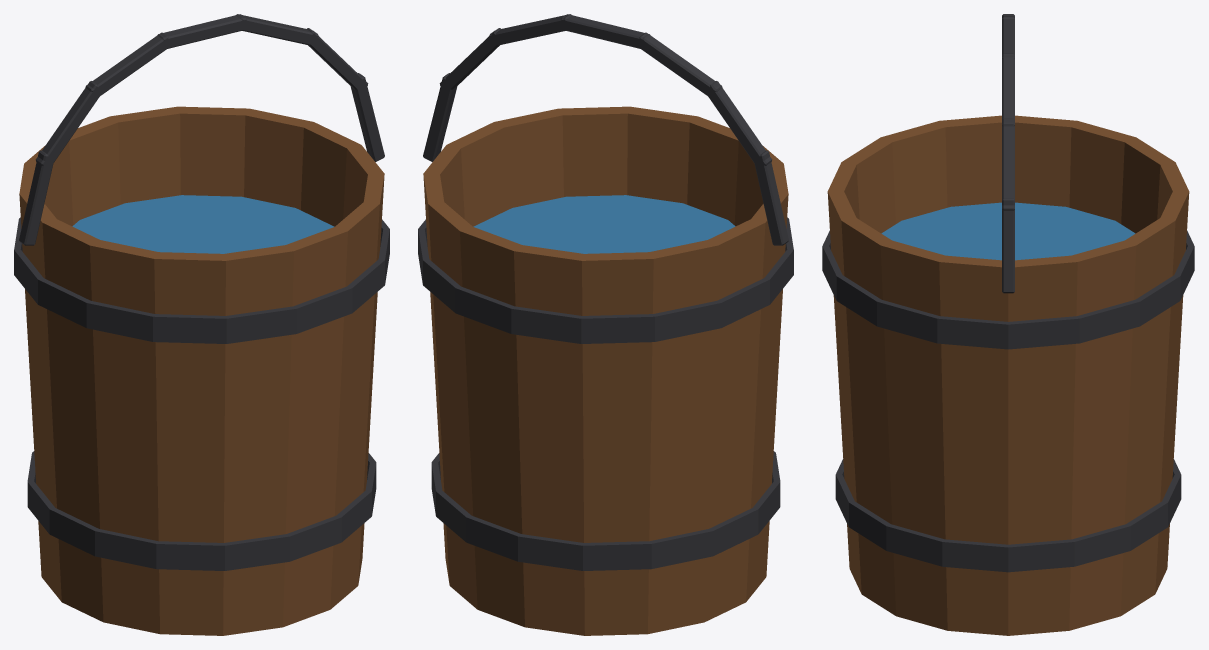
Rendered from Prop_WaterBucket.glb.
The picture shows the model from 3 angles, left to right: view 1: azimuth 30°, elevation 25°; view 2: azimuth 150°, elevation 25°; view 3: azimuth 270°, elevation 25°; orthographic projection.
Visible parts, largest first — view 1: Prop_WaterBucket, Prop_WaterBucket_Water; view 2: Prop_WaterBucket, Prop_WaterBucket_Water; view 3: Prop_WaterBucket, Prop_WaterBucket_Water.
Part boxes in pixels (bbox=[...]): Prop_WaterBucket: bbox=[14, 14, 389, 635]; Prop_WaterBucket_Water: bbox=[72, 195, 334, 253]; Prop_WaterBucket: bbox=[418, 14, 793, 635]; Prop_WaterBucket_Water: bbox=[473, 195, 735, 253]; Prop_WaterBucket: bbox=[822, 14, 1194, 635]; Prop_WaterBucket_Water: bbox=[881, 202, 1135, 260].
Size of what is drawn, in the model's own units: 0.3735 by 0.5368 by 0.3396.
